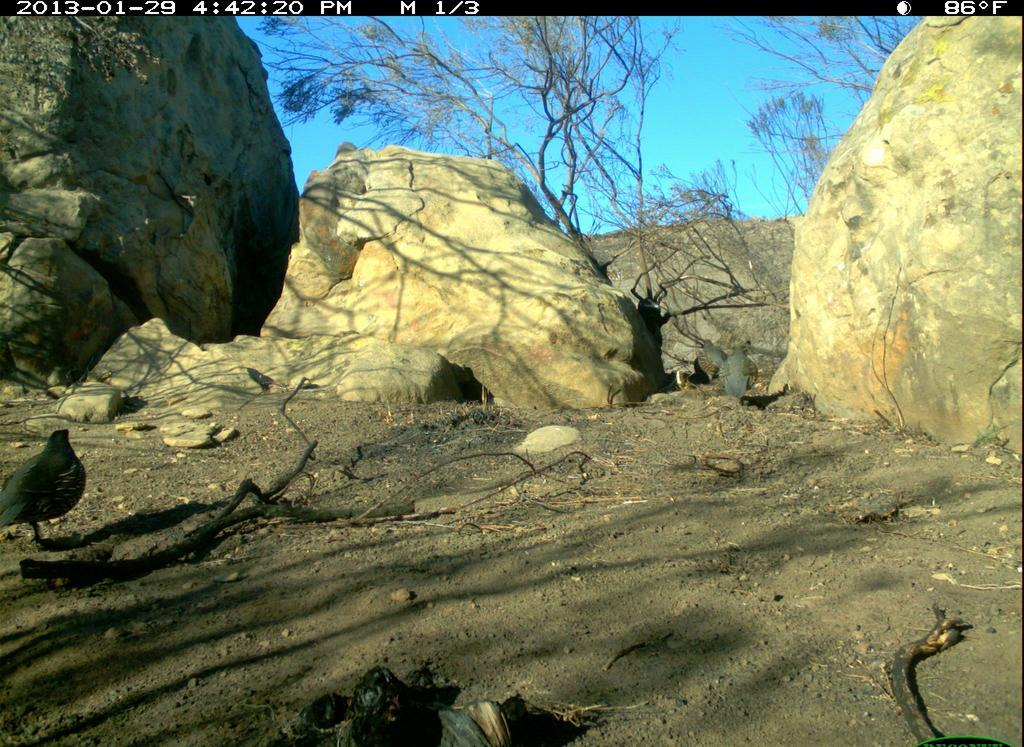bird: (1, 423, 100, 541), (717, 342, 760, 411), (693, 337, 730, 386)
